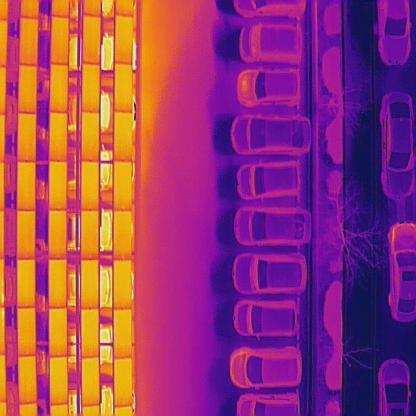Normal: (49, 65, 69, 113), (17, 162, 36, 212), (114, 357, 132, 408), (17, 211, 36, 259), (80, 310, 99, 358), (18, 112, 36, 162), (49, 162, 67, 212), (114, 211, 132, 261), (49, 308, 67, 358), (50, 113, 68, 162), (50, 259, 68, 308), (83, 15, 101, 64), (82, 64, 100, 112), (81, 112, 99, 160), (81, 162, 99, 210), (81, 260, 99, 308), (114, 260, 132, 308), (18, 308, 36, 356), (51, 17, 69, 65), (115, 112, 132, 162), (115, 308, 132, 358), (18, 260, 36, 307), (18, 357, 36, 404), (20, 17, 38, 64), (115, 15, 132, 64), (49, 212, 67, 258), (115, 64, 132, 112), (20, 63, 36, 114), (81, 211, 98, 259), (50, 358, 67, 406), (82, 358, 99, 406), (115, 160, 130, 209)
